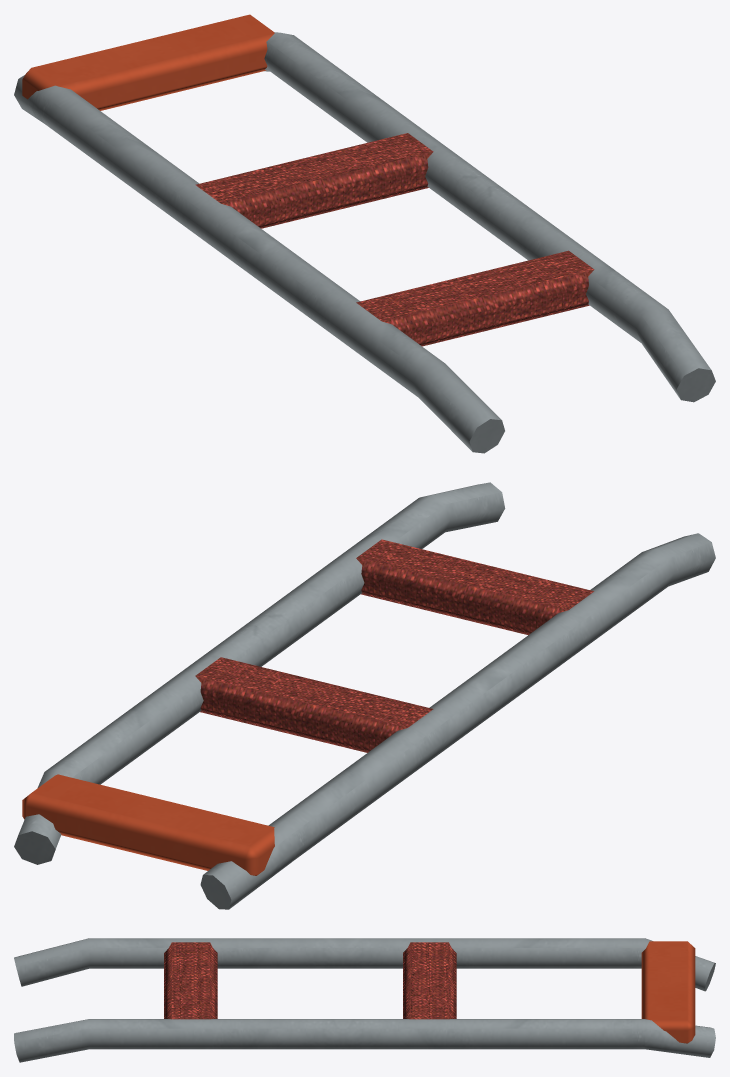
Rendered from mech_tool_keeper.fbx.
3 renders of one model, top to bottom at view 1: azimuth 30°, elevation 25°; view 2: azimuth 150°, elevation 25°; view 3: azimuth 270°, elevation 25°, orthographic. The views are drawn at different scales.
Parts seen in each view (by area): view 1: SM_mech_tool_keeper; view 2: SM_mech_tool_keeper; view 3: SM_mech_tool_keeper.
Boxes of the visible parts, box(x1,y1,x2,y2) form: SM_mech_tool_keeper: box(14, 14, 715, 453); SM_mech_tool_keeper: box(14, 482, 715, 909); SM_mech_tool_keeper: box(14, 938, 715, 1062).
Size of the model in its own units: 0.0374 by 0.00832 by 0.1176.
Materials: 3 (3 with a texture image).
